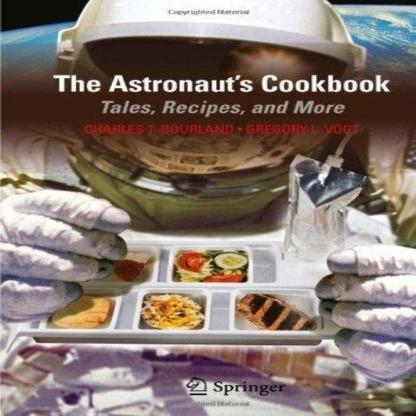Helmet: (40, 0, 382, 179)
